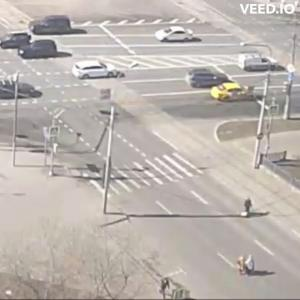car: (27, 16, 81, 37), (149, 24, 200, 45), (213, 84, 256, 107), (19, 41, 68, 61), (187, 67, 227, 88), (2, 82, 45, 101), (73, 61, 112, 81), (2, 33, 32, 53), (244, 56, 274, 73)
